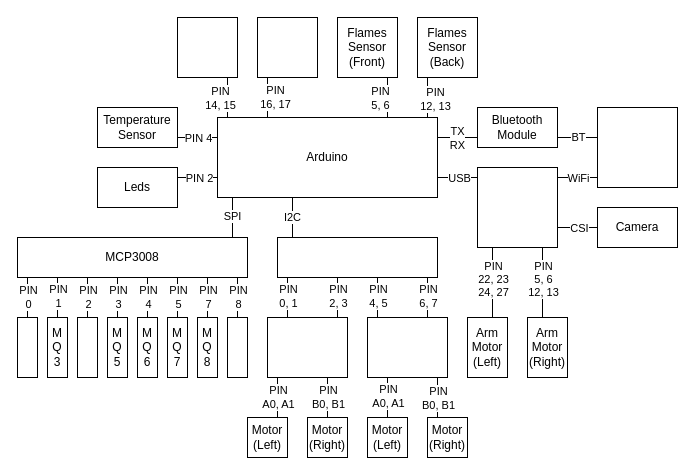
This 695x475 diagram has some shape labels left out. Each missing label, with the centre of its shape:
Distance Sensor (Back): point (287, 47)
Distance Sensor (Front): point (207, 47)
M Q 2: point (27, 347)
M Q 4: point (87, 347)
M Q 9: point (237, 347)
MCP23017: point (357, 257)
Motor Driver (Back ): point (407, 347)
Motor Driver (Front): point (307, 347)
Raspberry Pi: point (517, 207)
Smartphone With App: point (637, 147)
